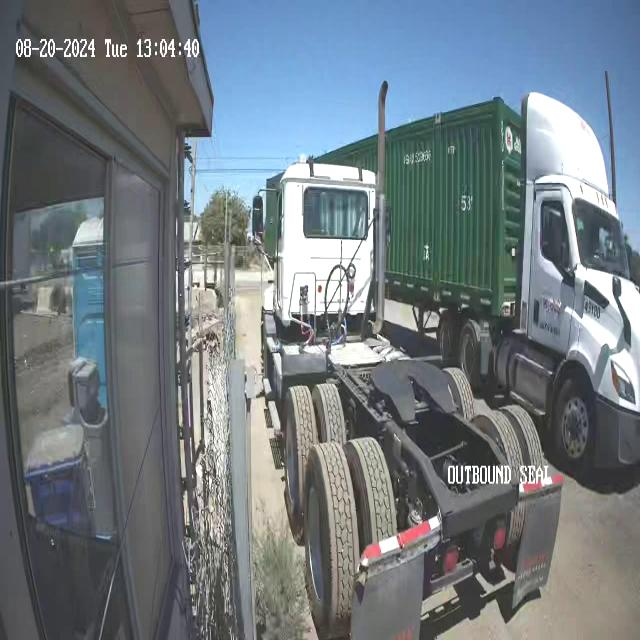CONTAINER: (389, 100, 531, 316)
